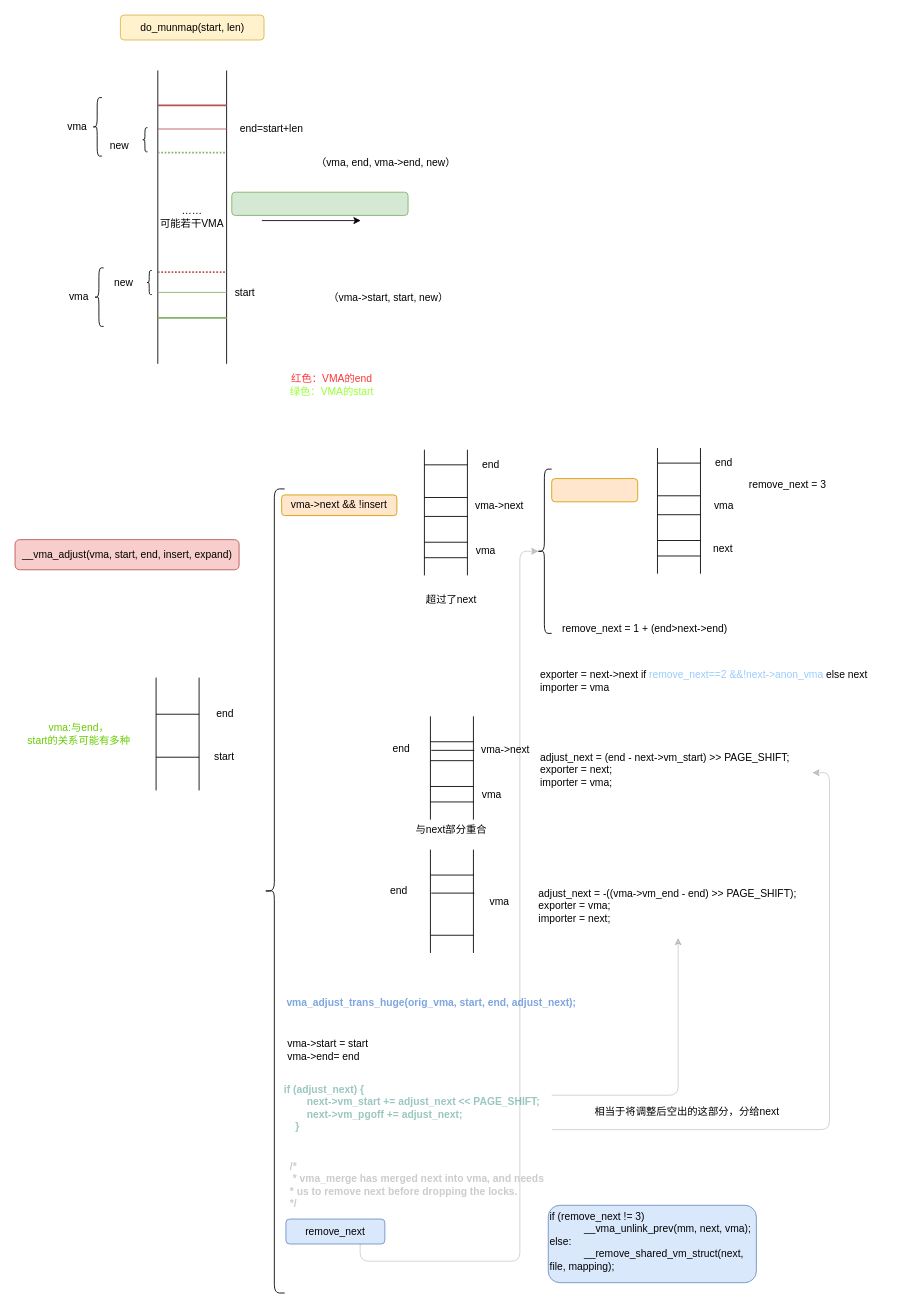
Image size: 897x1313. Some labels were removed from this diagram. The centre of each missing label's shape, as x and y in pixels:
next == expand: the point at 594,490
vma_adjust(vma, start, end, insert,): the point at 319,203
